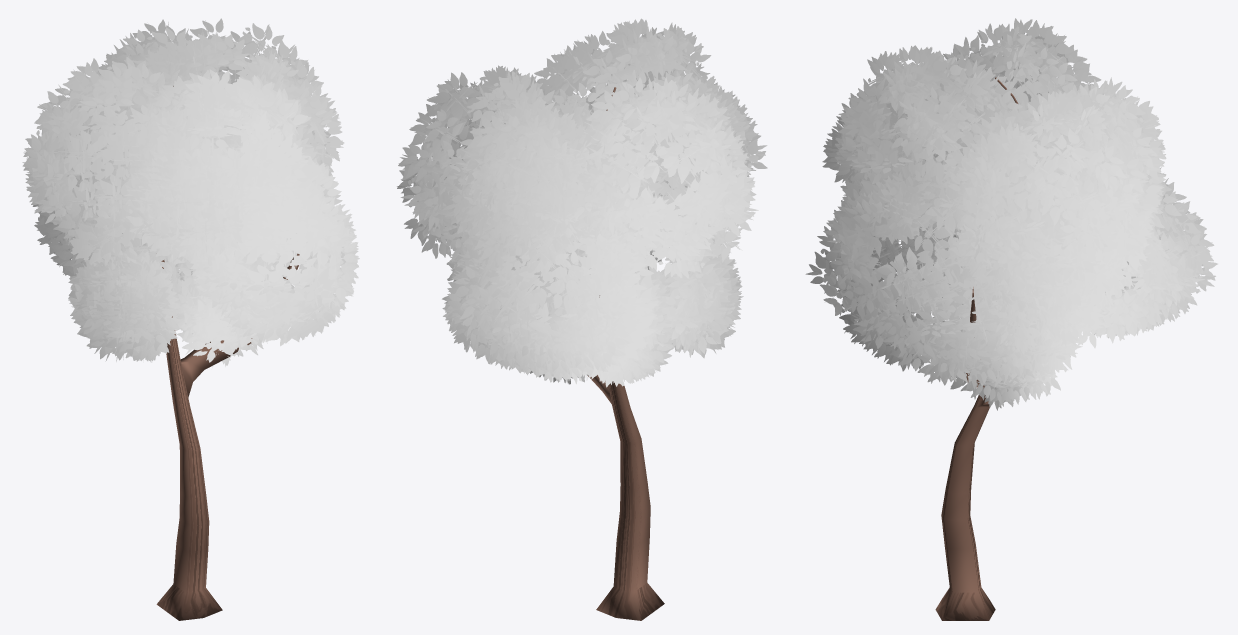
The model's file is Light_forest_tree.fbx.
3 renders of one model, left to right at view 1: azimuth 30°, elevation 25°; view 2: azimuth 150°, elevation 25°; view 3: azimuth 270°, elevation 25°, orthographic. The views are drawn at different scales.
Parts seen in each view (by area): view 1: leaves.001, trunk; view 2: leaves.001, trunk; view 3: leaves.001, trunk.
Part boxes in pixels (x1=…): leaves.001: x1=22, y1=18, x2=359, y2=367; trunk: x1=156, y1=86, x2=299, y2=620; leaves.001: x1=397, y1=18, x2=767, y2=387; trunk: x1=587, y1=87, x2=664, y2=620; leaves.001: x1=805, y1=18, x2=1217, y2=410; trunk: x1=935, y1=77, x2=1018, y2=620.
Bounding box in the file's own units: 15.46 × 25.27 × 17.1.
